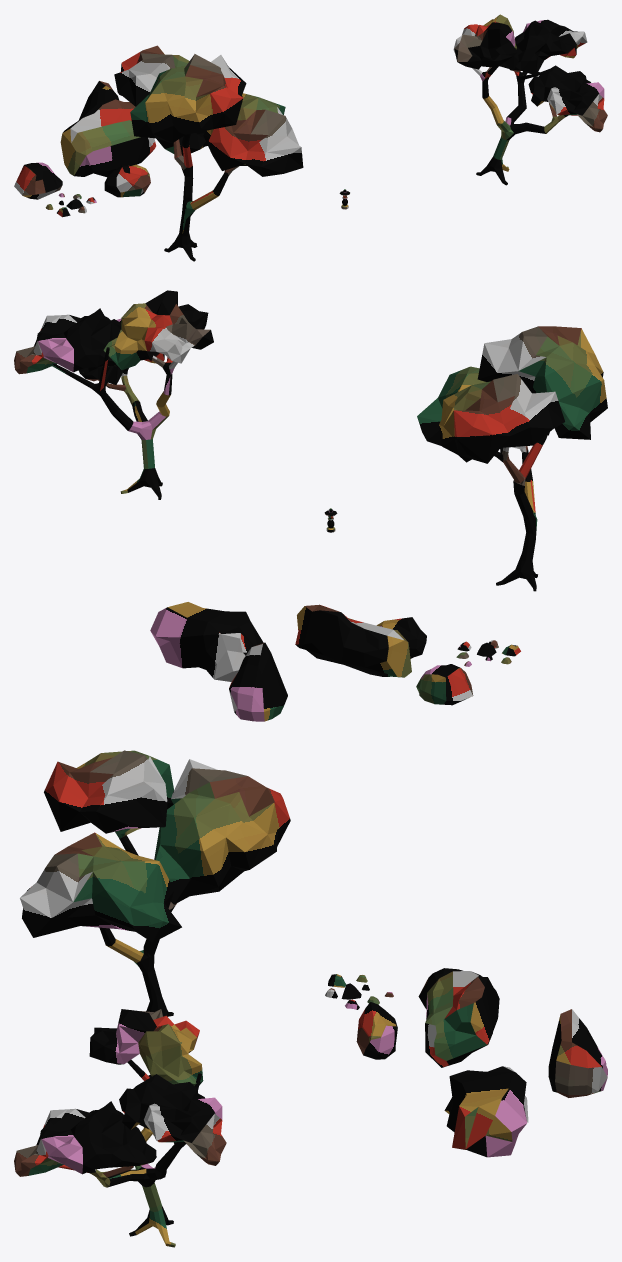
File: Nature.fbx
3 renders of one model, top to bottom at view 1: azimuth 30°, elevation 25°; view 2: azimuth 150°, elevation 25°; view 3: azimuth 270°, elevation 25°, orthographic. The views are drawn at different scales.
Visible parts, largest first — view 1: Leafs.003, Leafs.004, Rock.002, SacuraLeafs.001, SacuraLeafs, SacuraLeafs.002, Sacura, Leafs.001, Sacura.002, Rock, Rock.001, Rock_sharp (+2 smaller); view 2: Leafs.003, Leafs.001, Rock_Big, Rock.002, SacuraLeafs, SacuraLeafs.002, Sacura, Rock_sharp, Sacura.002, Rock, Leafs.004, Rock.001 (+2 smaller); view 3: Leafs.001, Leafs.004, Leafs.003, SacuraLeafs.001, Rock_Big, SacuraLeafs.002, Rock.002, SacuraLeafs, Rock_sharp, Sacura, Sacura.002, Rock.001 (+1 smaller).
Part boxes in pixels (x1,y1,x2,y2): Leafs.003: (130,54,246,143); Leafs.004: (203,93,303,176); Rock.002: (60,99,156,176); SacuraLeafs.001: (528,65,607,132); SacuraLeafs: (453,14,518,70); SacuraLeafs.002: (509,19,587,75); Sacura: (472,66,577,185); Leafs.001: (114,45,189,106); Sacura.002: (164,134,246,261); Rock: (14,162,62,199); Rock.001: (104,164,150,197); Rock_sharp: (78,81,119,120); Leafs.003: (477,326,607,439); Leafs.001: (439,374,564,463); Rock_Big: (150,602,263,681); Rock.002: (295,604,411,677); SacuraLeafs: (103,290,213,369); SacuraLeafs.002: (14,308,120,374); Sacura: (52,347,177,499); Rock_sharp: (229,642,287,721); Sacura.002: (494,433,547,591); Rock: (416,664,473,705); Leafs.004: (417,366,549,445); Rock.001: (376,617,426,658); Leafs.001: (154,759,290,904); Leafs.004: (20,832,181,942); Leafs.003: (44,750,173,833); SacuraLeafs.001: (14,1101,156,1176); Rock_Big: (444,1066,528,1157); SacuraLeafs.002: (119,1074,226,1165); Rock.002: (425,971,499,1067); SacuraLeafs: (89,1009,203,1085); Rock_sharp: (548,1009,607,1097); Sacura: (58,1059,201,1247); Sacura.002: (99,828,176,1016); Rock.001: (356,1002,397,1059).
Size of the model in its own units: 4062 by 1803 by 3255.
